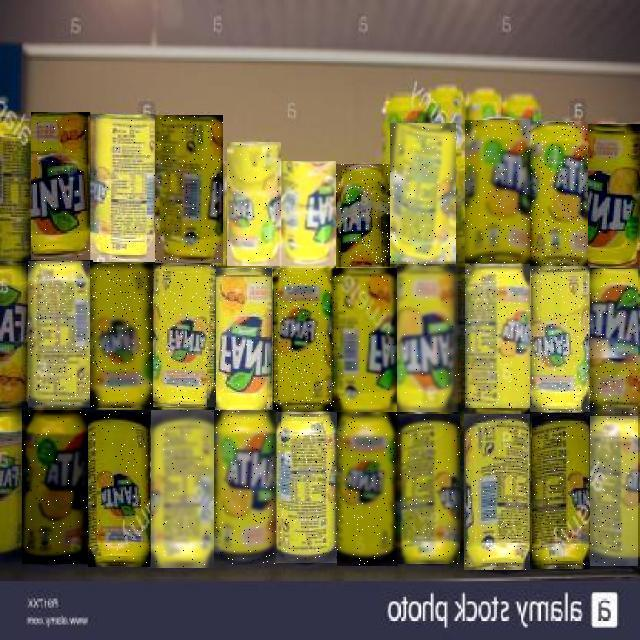Drinks: (465, 415, 531, 571), (23, 411, 89, 565), (155, 115, 223, 263), (151, 410, 214, 568), (88, 410, 150, 567), (338, 412, 400, 566), (215, 410, 277, 564), (390, 124, 456, 266), (275, 412, 337, 563), (465, 264, 530, 408), (398, 414, 460, 564), (465, 120, 530, 263), (93, 115, 155, 263), (32, 112, 94, 260), (28, 262, 90, 410), (152, 265, 216, 407), (90, 264, 153, 408), (398, 266, 460, 412), (532, 413, 590, 569), (335, 268, 397, 412), (530, 266, 590, 412), (276, 269, 336, 411), (216, 268, 276, 410), (529, 122, 588, 266), (588, 124, 640, 268), (591, 416, 639, 566), (590, 270, 638, 416), (227, 142, 281, 266), (281, 162, 337, 270), (336, 164, 390, 267)
